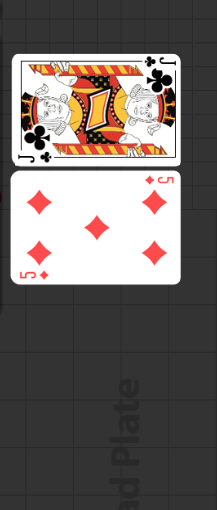5D: (142, 175, 174, 187)
JC: (142, 55, 177, 69)
